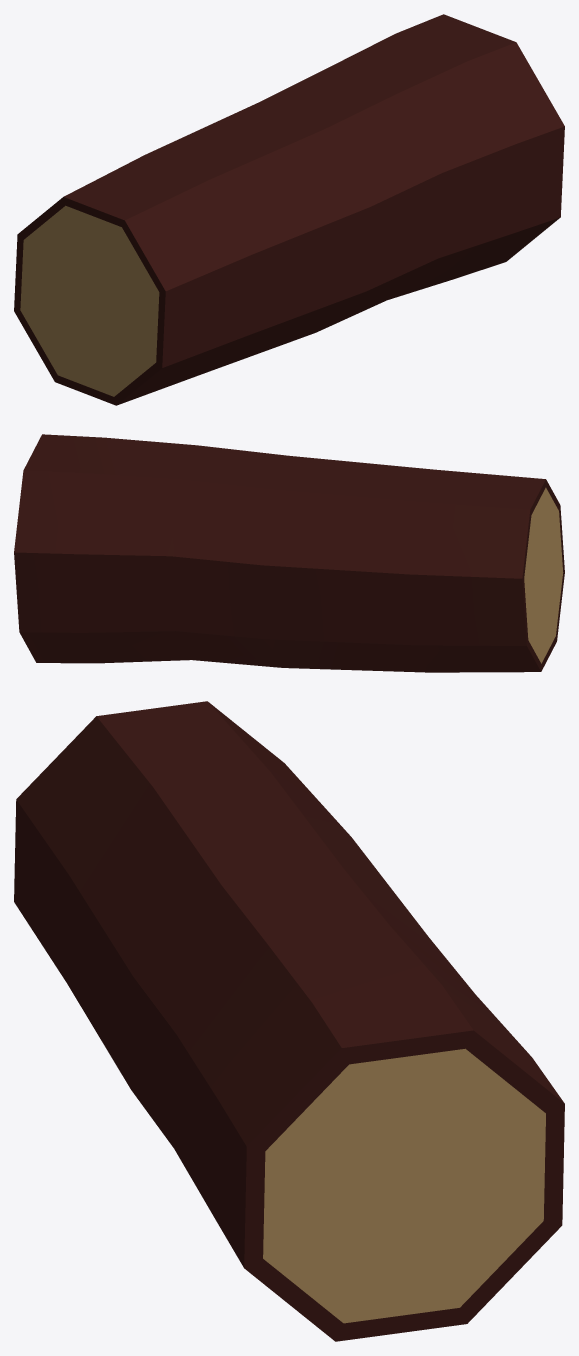
The model's file is SM_Campfire_02_Log_002.fbx.
3 views of the same model, one above another, from view 1: azimuth 30°, elevation 25°; view 2: azimuth 150°, elevation 25°; view 3: azimuth 270°, elevation 25° (orthographic). The views are drawn at different scales.
Parts seen in each view (by area): view 1: CampfireLog_002; view 2: CampfireLog_002; view 3: CampfireLog_002.
Boxes of the visible parts, x1,y1,x2,y2 form: CampfireLog_002: (14,14,564,405); CampfireLog_002: (14,434,564,672); CampfireLog_002: (14,701,564,1341).
Size of the model in its own units: 29.24 by 11.36 by 18.45.
